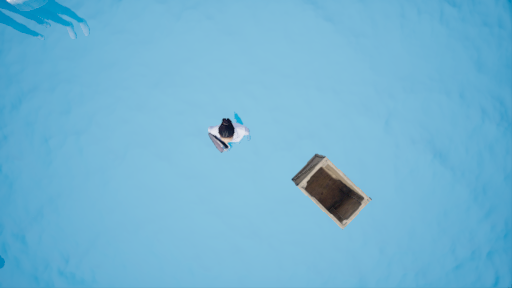person: (196, 103, 259, 156)
